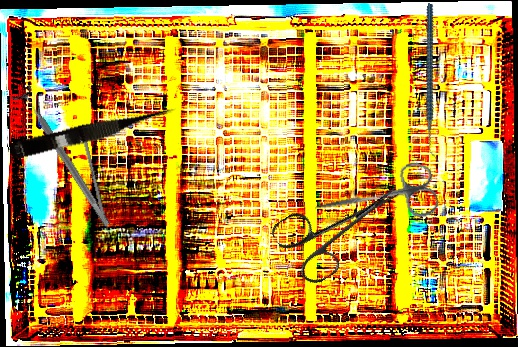Chopper: (380, 3, 487, 162)
Fixation Ring: (9, 83, 119, 233)
Iris Scissors: (268, 158, 417, 291), (309, 158, 441, 238)
Micro Scissor: (7, 101, 180, 165)
Pusher: (79, 125, 113, 245)
